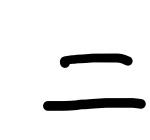eqv: (43, 54, 146, 109)
